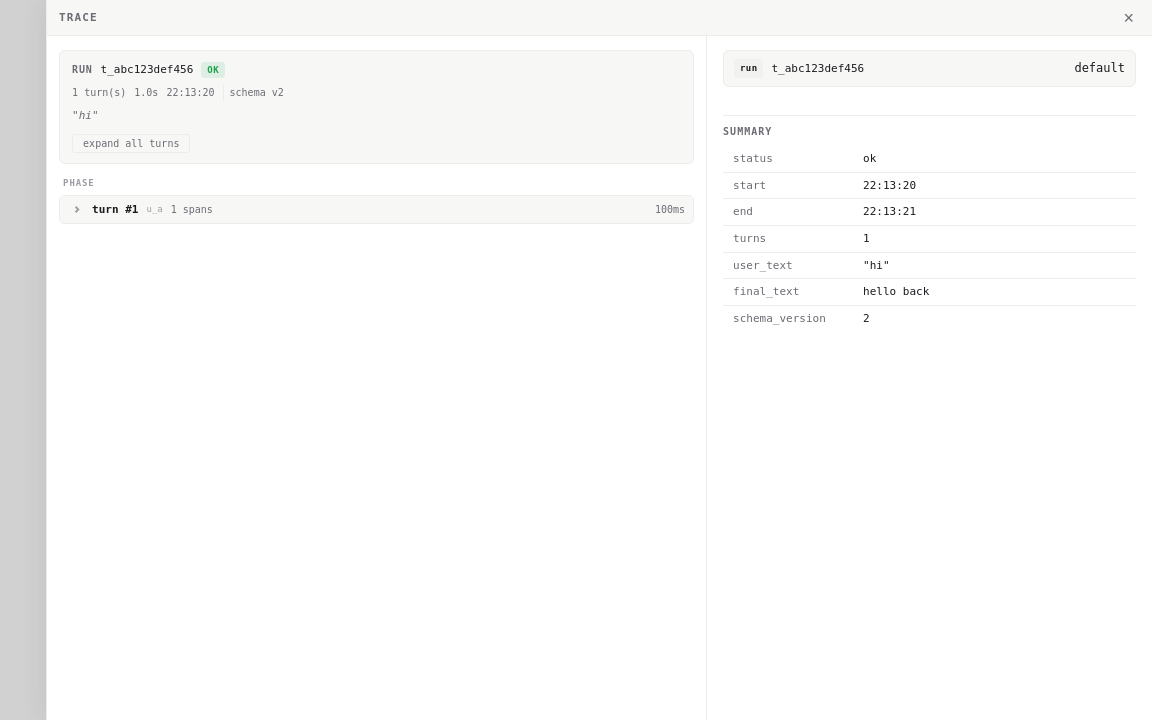
Test: TraceDrawer v2 trace shape › shows full span_id (no truncation) in tree and detail panel
The image size is (1152, 720).
Expected: the element with class "trace-tree-pane" is shown, [47,36,707,719]
turn 默认折叠 → 展开后才能看到 span_id
Click the button with class "trace-chev": point(76, 210) [71,204,82,215]
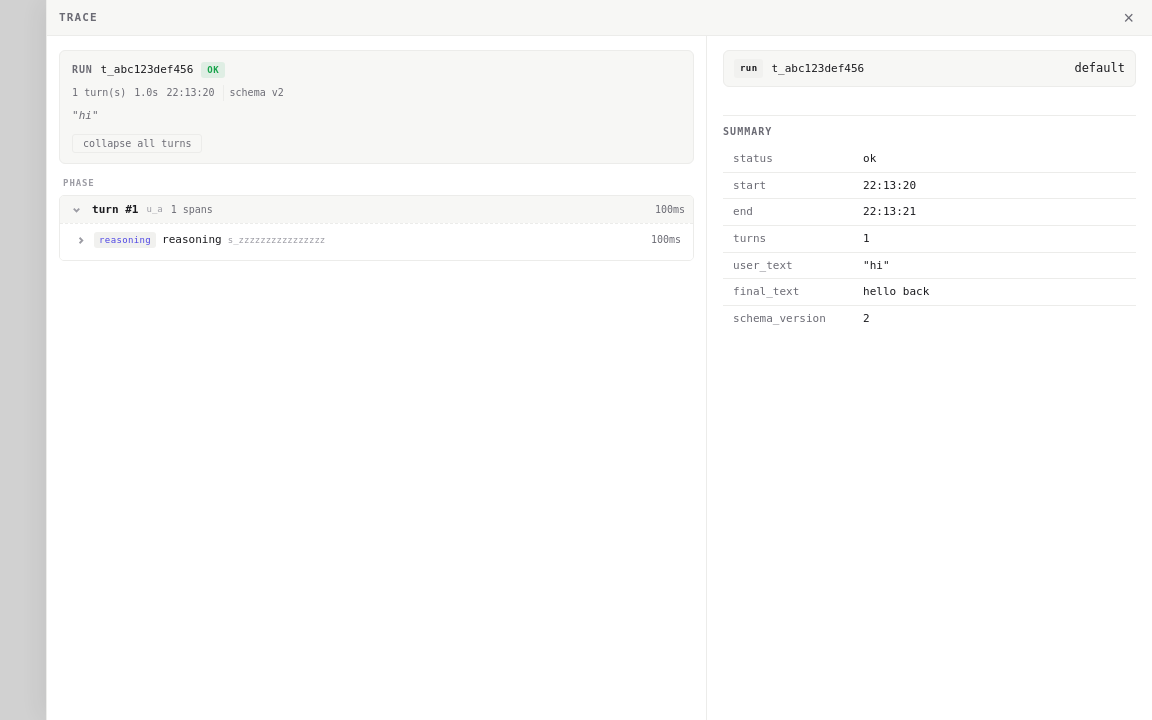
Now the text with class "trace-tree-span-id" reads "s_zzzzzzzzzzzzzzzz", box [228,235,325,245]
